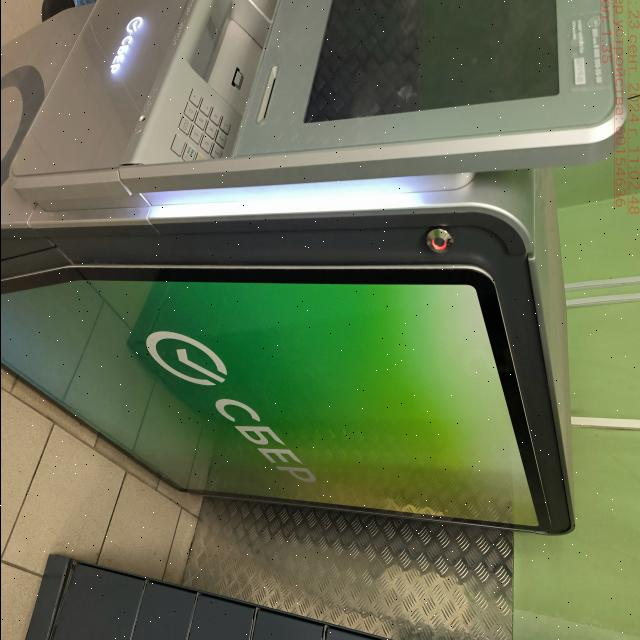bank: (1, 0, 625, 531)
